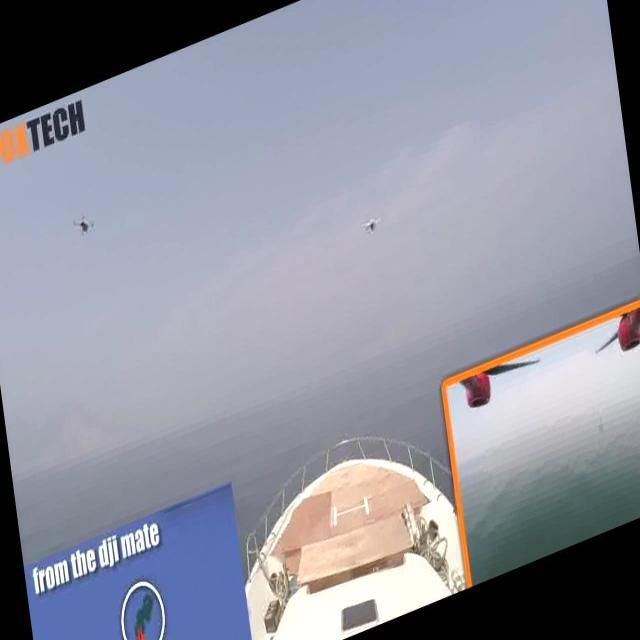drone: (72, 207, 100, 245), (359, 210, 383, 244)
